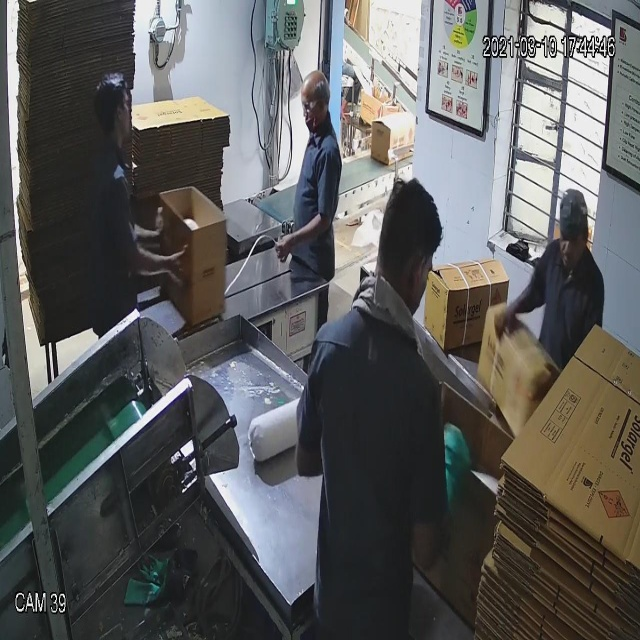Sin_guantes: (111, 228, 199, 300), (477, 270, 539, 355), (276, 207, 330, 269)
